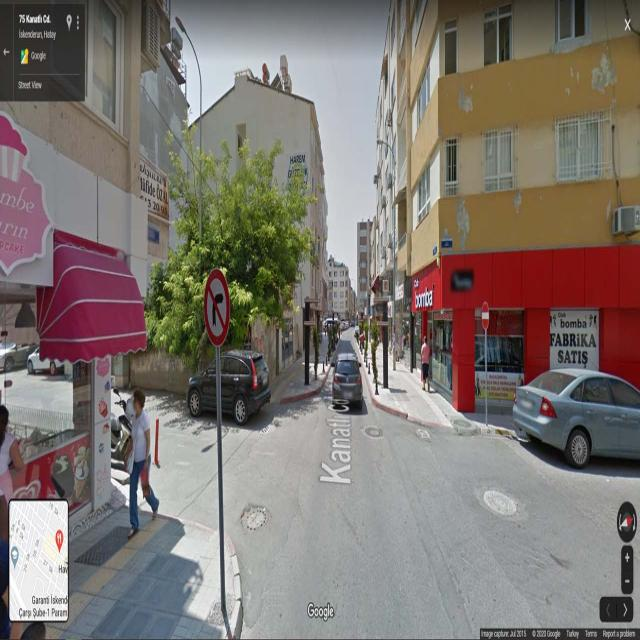girisyok: (482, 301, 488, 327)
sagadonulmez: (204, 268, 230, 346)
